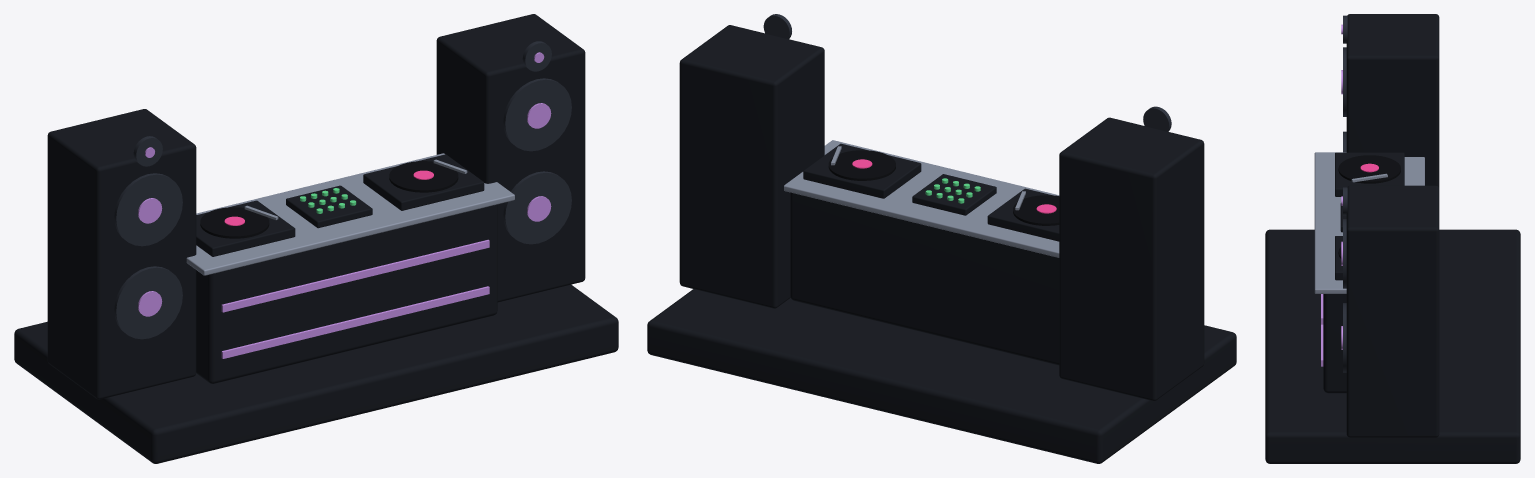
3 renders of one model, left to right at view 1: azimuth 30°, elevation 25°; view 2: azimuth 150°, elevation 25°; view 3: azimuth 270°, elevation 25°, orthographic. The views are drawn at different scales.
Parts seen in each view (by area): view 1: booth, cone_-1_0, tonearm_-1, neon_front, platter_-1; view 2: booth, tonearm_-1, platter_-1, cone_-1_0; view 3: booth, tonearm_-1, platter_-1, cone_-1_0, neon_front.
Boxes of the visible parts, x1,y1,x2,y2 form: booth: [14, 14, 618, 463]; cone_-1_0: [114, 41, 571, 339]; tonearm_-1: [186, 153, 514, 275]; neon_front: [138, 52, 551, 358]; platter_-1: [200, 161, 458, 238]; booth: [647, 25, 1236, 463]; tonearm_-1: [784, 140, 1059, 257]; platter_-1: [828, 150, 1059, 225]; cone_-1_0: [763, 14, 1171, 131]; booth: [1265, 14, 1520, 463]; tonearm_-1: [1314, 152, 1424, 293]; platter_-1: [1338, 155, 1400, 258]; cone_-1_0: [1343, 15, 1347, 372]; neon_front: [1321, 24, 1342, 366].
Size of the model in its own units: 4.4 by 2.47 by 2.2.
